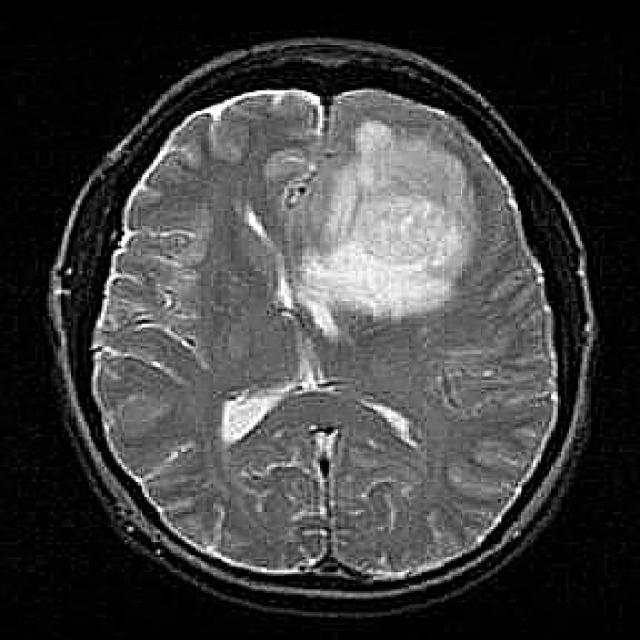Tumor-Cell: (287, 104, 483, 317)
